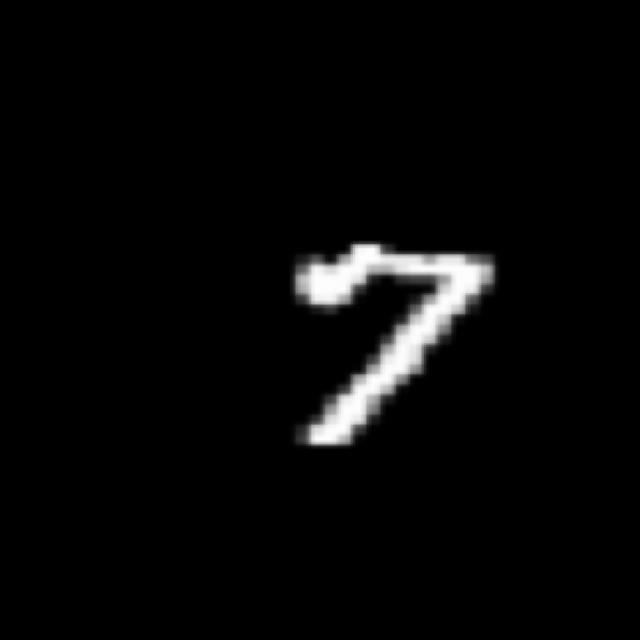seven -7-: (280, 234, 504, 457)
